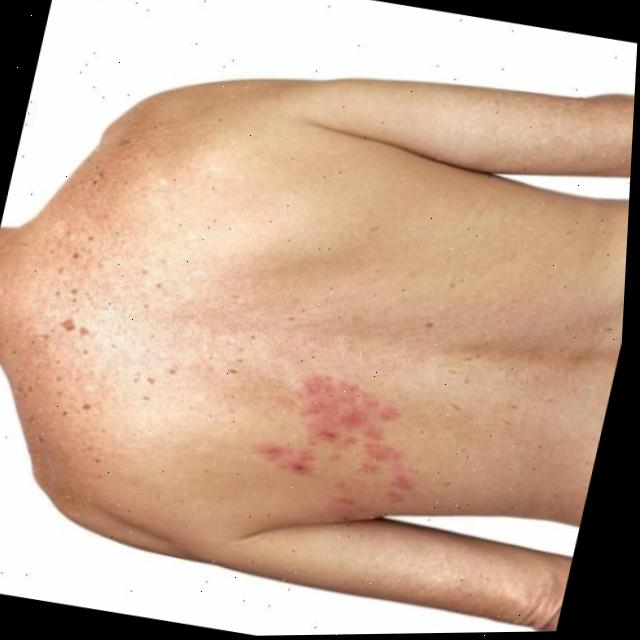Shingles: (243, 358, 440, 524)
